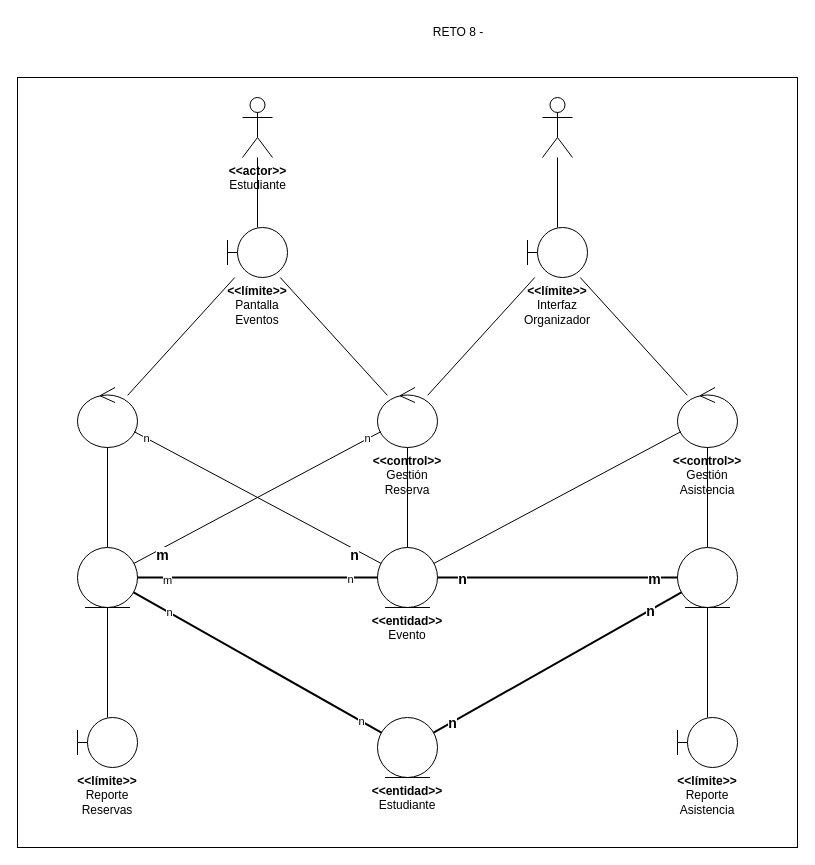
This 815x865 diagram has some shape labels left out. Each missing label, with the centre of its shape:
"<<actor>> Organizador" belongs at [557,127].
"<<control>> Calcular Disponibilidad" belongs at [107,417].
"<<entidad>> Asistencia" belongs at [707,577].
"<<entidad>> Reserva" belongs at [107,577].
